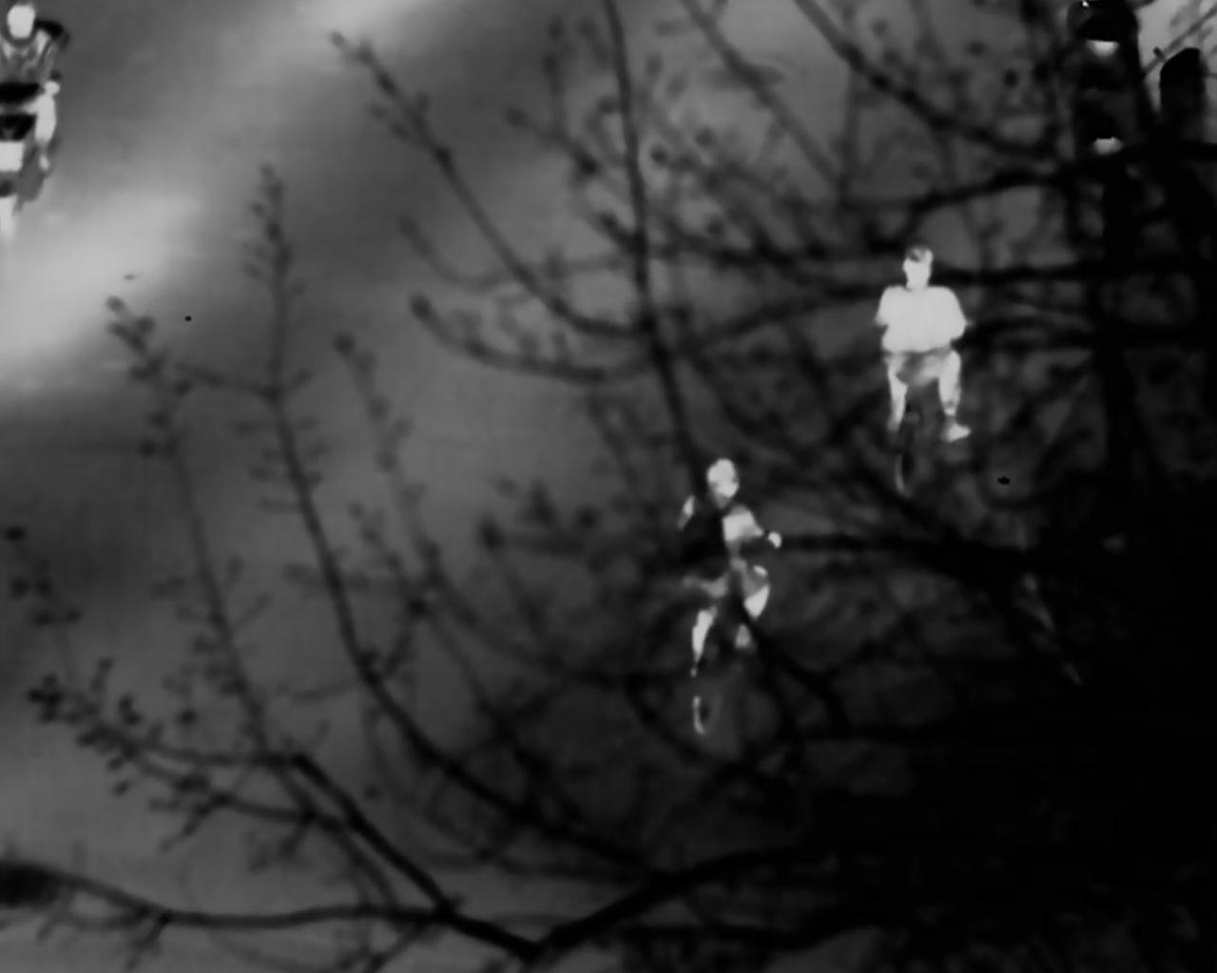person: (681, 460, 782, 706), (884, 234, 979, 467)
